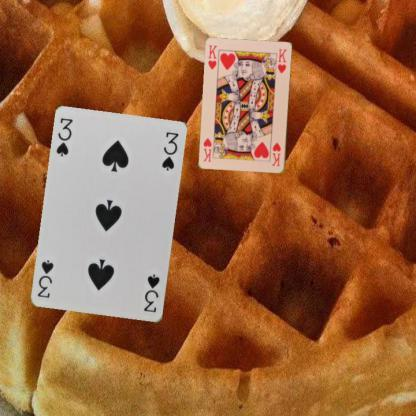3s: (141, 272, 161, 314), (54, 116, 74, 158)
Kh: (269, 140, 282, 168), (206, 43, 218, 72)
